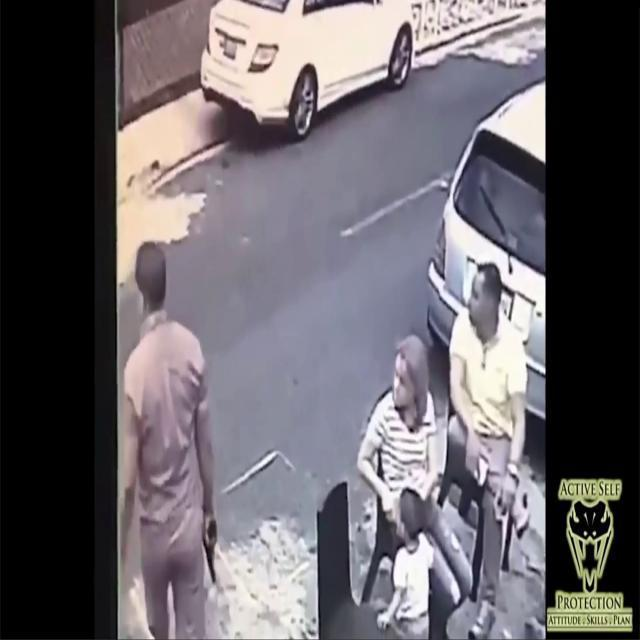gun: (202, 517, 216, 585)
